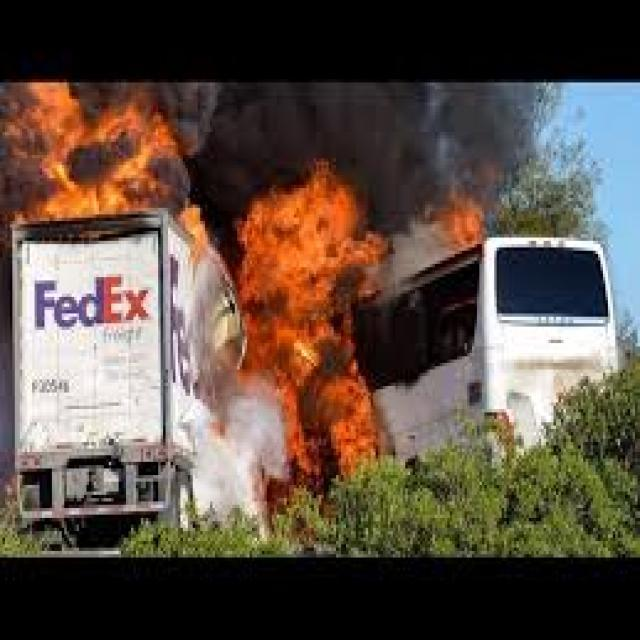Fire: (232, 170, 386, 528), (0, 80, 212, 254), (442, 192, 484, 255)
Smoke: (212, 82, 534, 170)
